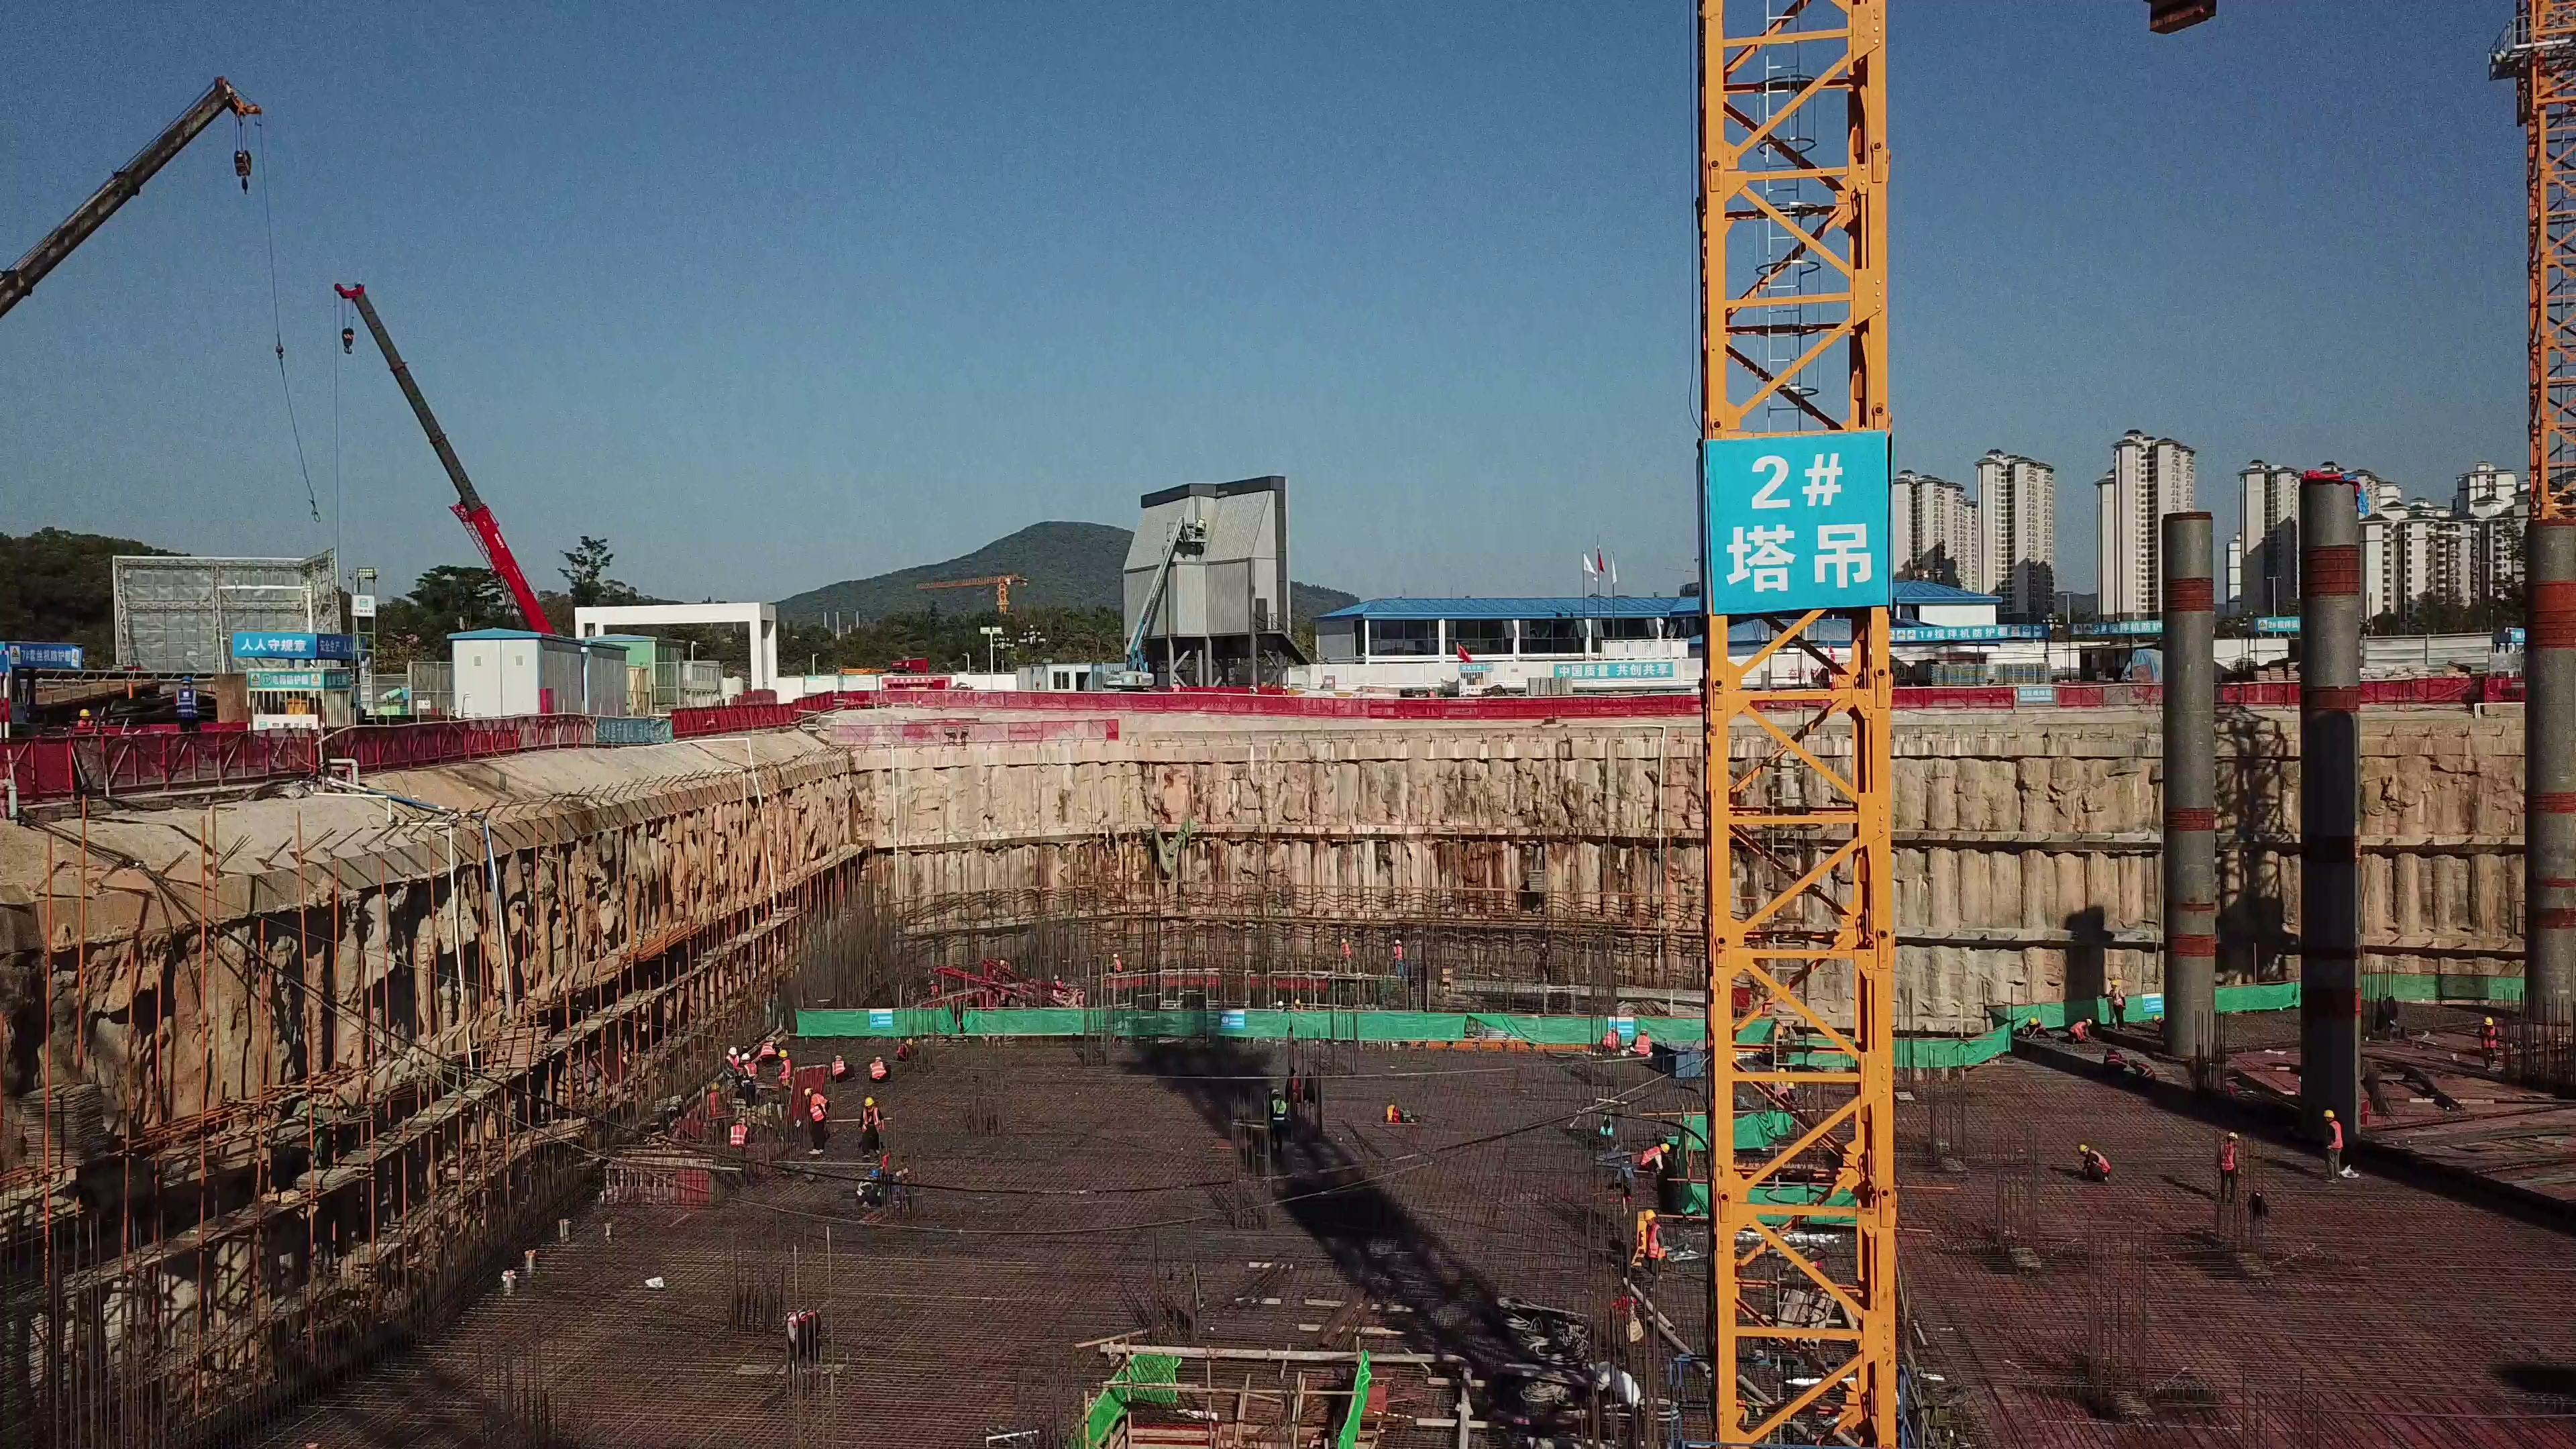helmet: (867, 1167, 883, 1180), (2224, 1129, 2240, 1142), (862, 1095, 879, 1107), (1642, 1210, 1659, 1222), (179, 674, 194, 684), (1659, 1141, 1672, 1153), (2323, 1108, 2338, 1118), (728, 1046, 739, 1057), (2078, 1140, 2090, 1153), (78, 707, 91, 717), (803, 1086, 814, 1097), (905, 1036, 914, 1045), (2027, 1016, 2037, 1026), (778, 1050, 791, 1058), (743, 1053, 753, 1063), (1609, 1023, 1619, 1032), (2086, 1016, 2094, 1026), (2110, 977, 2122, 985), (1272, 1088, 1281, 1096), (873, 1055, 881, 1061), (2130, 1058, 2137, 1067), (1641, 1028, 1648, 1036), (2153, 1013, 2159, 1020)
person: (1635, 1210, 1673, 1281), (2316, 1106, 2349, 1187), (800, 1084, 836, 1156), (2213, 1130, 2247, 1201), (853, 1095, 889, 1158), (2074, 1138, 2116, 1188), (170, 674, 204, 733), (848, 1163, 889, 1208), (2475, 1014, 2504, 1073), (1635, 1139, 1676, 1179), (1265, 1087, 1287, 1152), (773, 1050, 797, 1102), (2106, 976, 2129, 1028), (739, 1052, 763, 1102), (704, 1078, 728, 1126), (2066, 1014, 2098, 1046), (726, 1119, 752, 1158), (863, 1053, 895, 1083), (2129, 1058, 2161, 1087), (1627, 1026, 1654, 1060), (755, 1033, 784, 1066), (722, 1044, 743, 1085), (2026, 1014, 2055, 1043), (2102, 1044, 2126, 1077), (830, 1055, 857, 1083), (1598, 1024, 1624, 1055), (70, 706, 104, 729), (896, 1034, 920, 1060), (2153, 1012, 2167, 1044)
vest: (1641, 1222, 1668, 1262), (173, 690, 199, 716), (860, 1105, 883, 1131), (2217, 1143, 2240, 1170), (2326, 1122, 2343, 1150), (2092, 1149, 2112, 1171), (810, 1097, 828, 1122), (1270, 1099, 1288, 1123), (1641, 1145, 1659, 1167), (856, 1178, 875, 1197), (730, 1125, 748, 1146), (1631, 1036, 1653, 1055), (2070, 1018, 2088, 1040), (1599, 1033, 1619, 1051), (2137, 1061, 2155, 1080), (777, 1062, 792, 1085), (869, 1063, 888, 1079), (727, 1057, 742, 1075), (743, 1064, 759, 1080), (830, 1062, 848, 1075)
